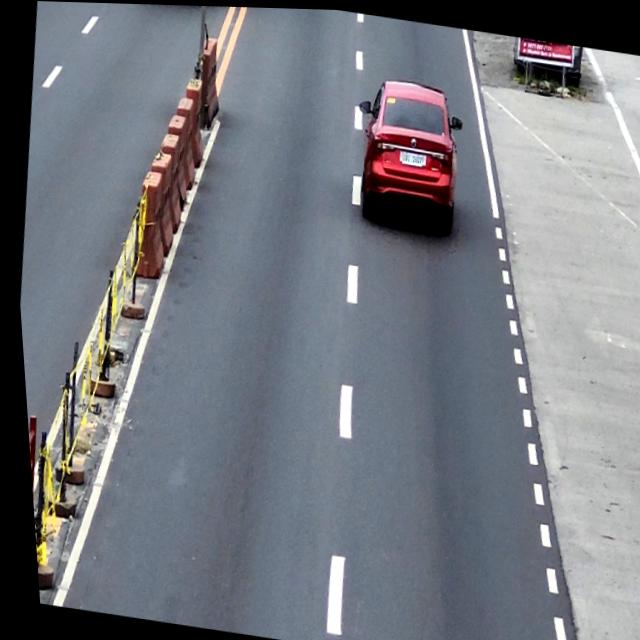Car: (341, 71, 470, 234)
License-Plate: (399, 148, 421, 164)
